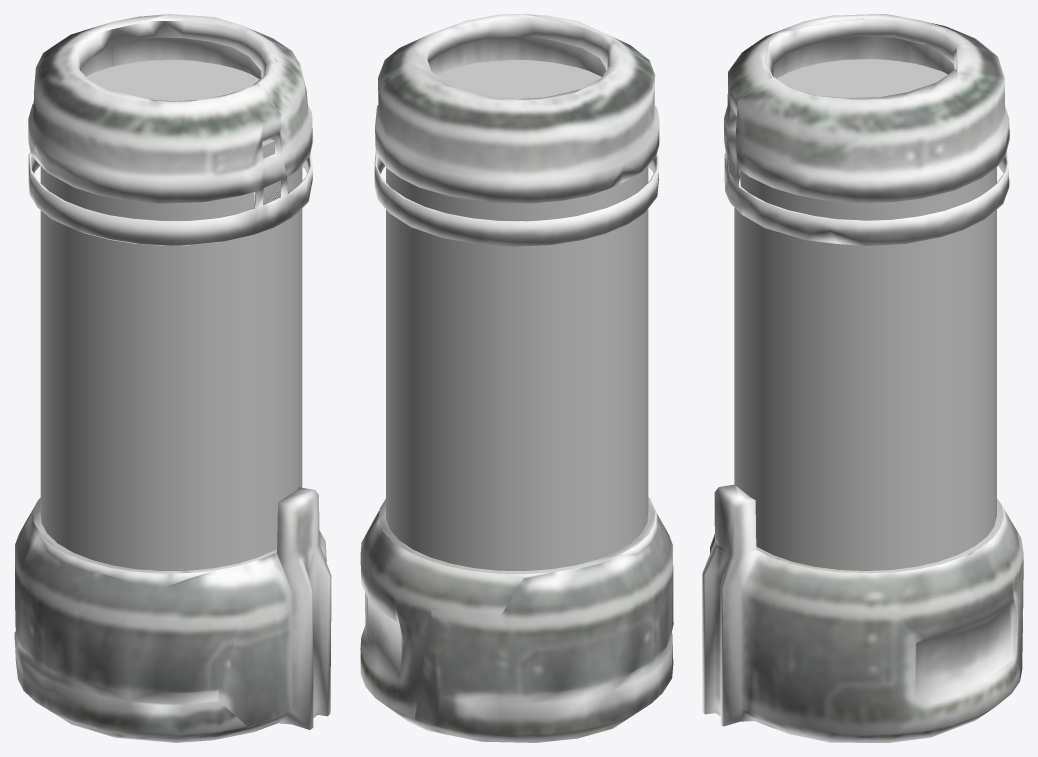
Rendered from LiquidCell.fbx.
3 renders of one model, left to right at view 1: azimuth 30°, elevation 25°; view 2: azimuth 150°, elevation 25°; view 3: azimuth 270°, elevation 25°, orthographic.
Parts seen in each view (by area): view 1: lp.659, Cylinder; view 2: lp.659, Cylinder; view 3: lp.659, Cylinder.
Boxes of the visible parts, x1,y1,x2,y2 form: lp.659: (14,14,331,742); Cylinder: (40,60,302,570); lp.659: (360,14,673,742); Cylinder: (386,60,648,570); lp.659: (702,14,1023,742); Cylinder: (734,59,996,570).
Bounding box in the file's own units: 98.89 × 219 × 101.
Materials: 1 (1 with a texture image).
